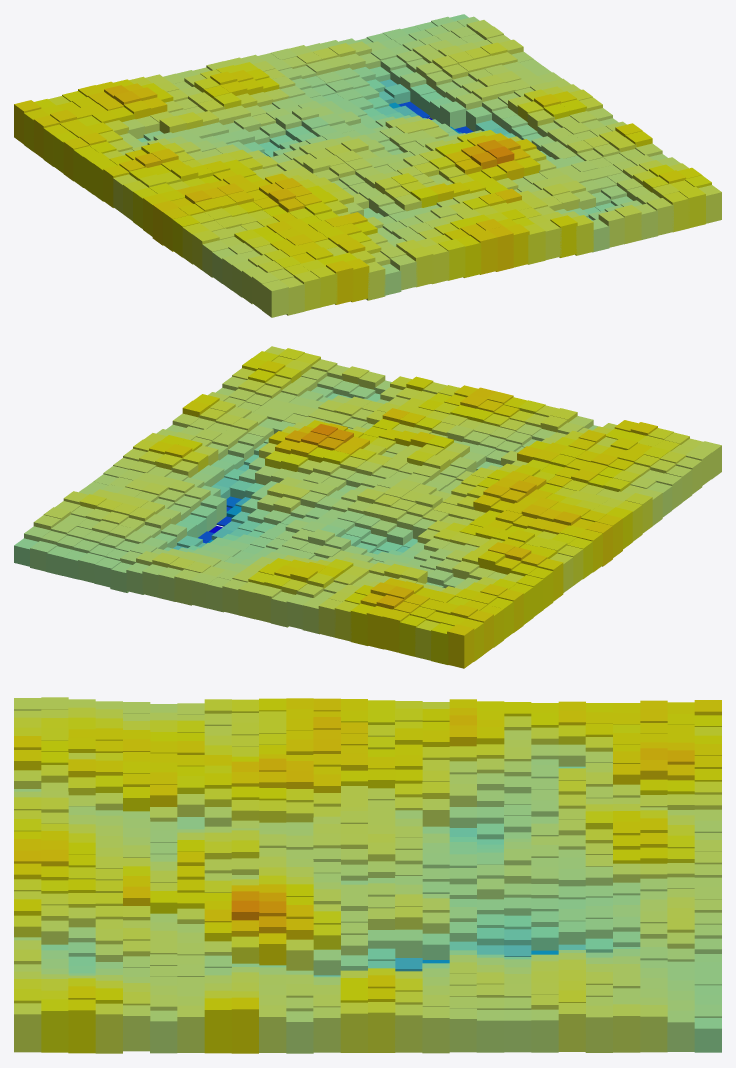
Rendered from population.glb.
The picture shows the model from 3 angles, top to bottom: view 1: azimuth 30°, elevation 25°; view 2: azimuth 150°, elevation 25°; view 3: azimuth 270°, elevation 25°; orthographic projection. The views are drawn at different scales.
Parts seen in each view (by area): view 1: population; view 2: population; view 3: population.
Boxes of the visible parts, x1,y1,x2,y2 form: population: [14, 14, 721, 317]; population: [14, 346, 721, 668]; population: [14, 697, 721, 1053].
Size of the model in its own units: 2609 by 250 by 2587.
